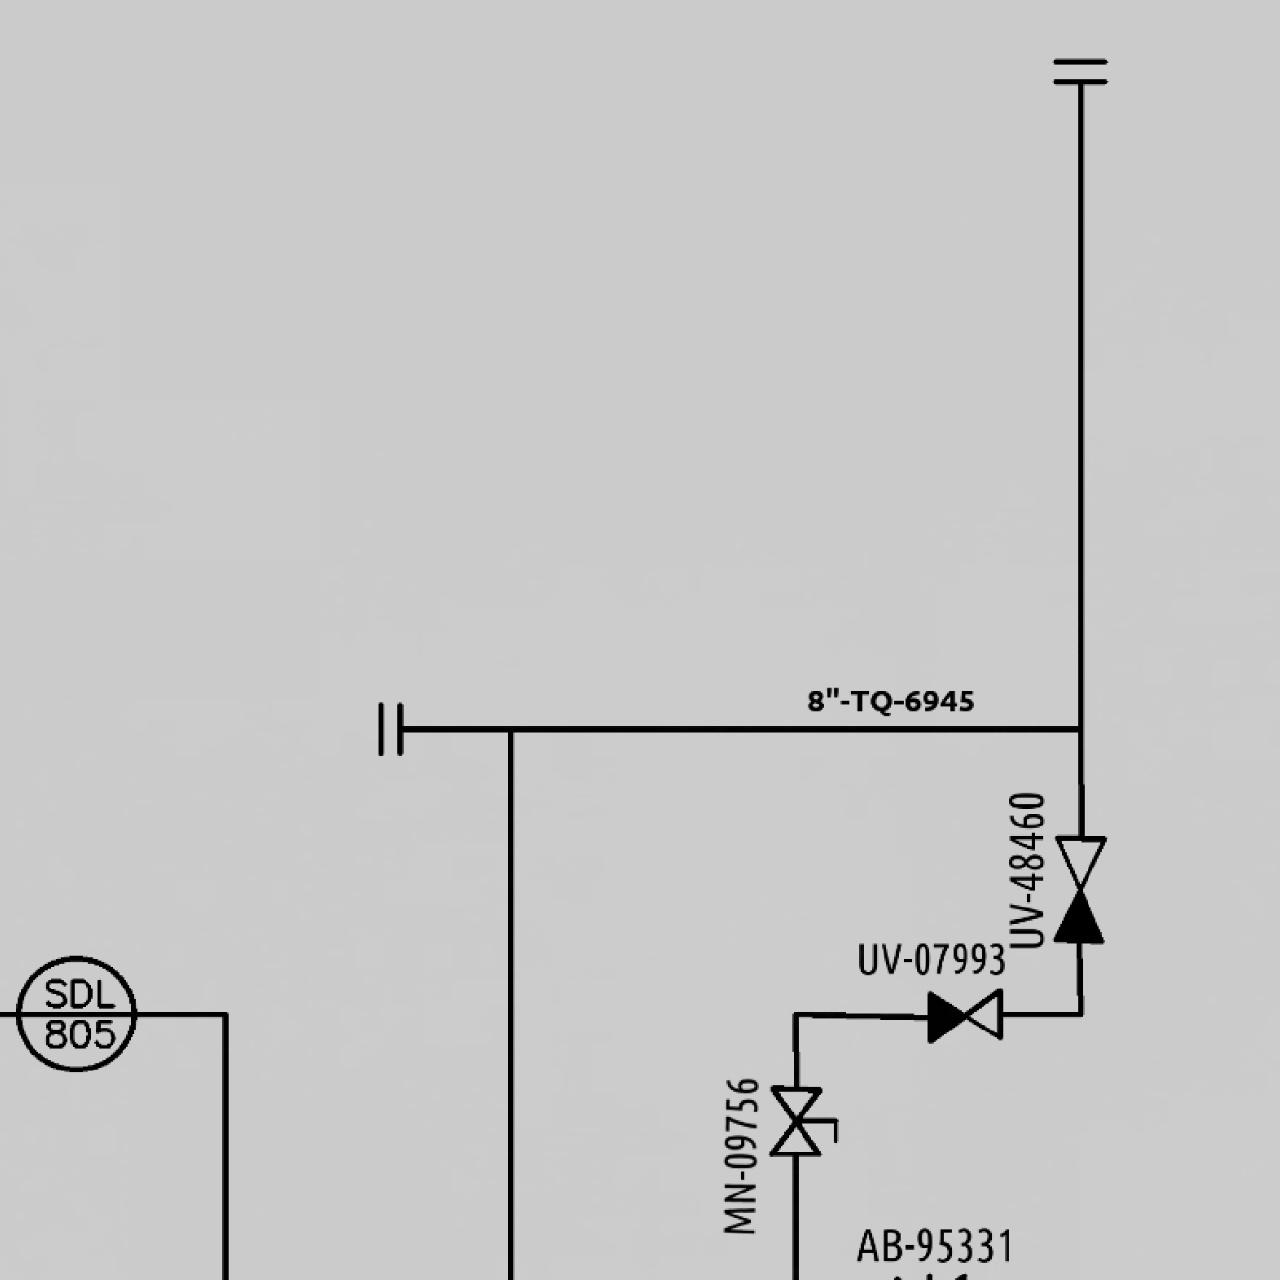Half closed valve: (1048, 831, 1110, 947), (922, 983, 1005, 1046)
